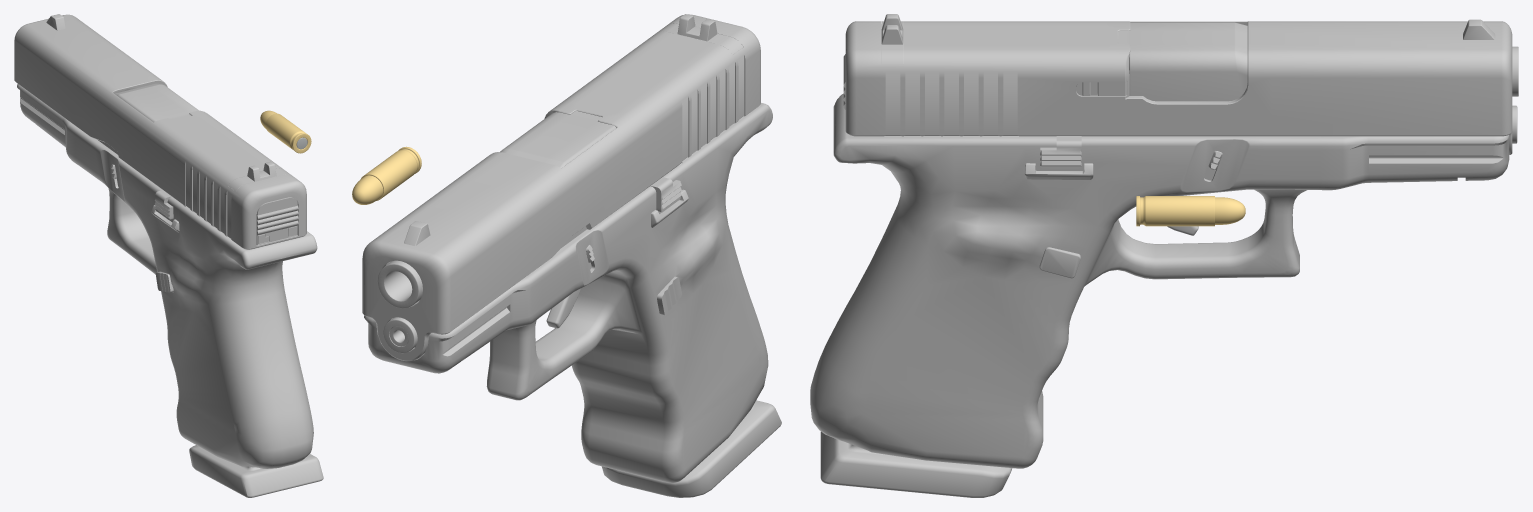
3 views of the same model, side by side, from view 1: azimuth 30°, elevation 25°; view 2: azimuth 150°, elevation 25°; view 3: azimuth 270°, elevation 25° (orthographic). The views are drawn at different scales.
Parts seen in each view (by area): view 1: GL_Frame, GL_Slide, GL_Magazine, GL_Barrel, Bullet_Casing, GL_SlideStop1; view 2: GL_Frame, GL_Slide, GL_Barrel, GL_Magazine, Bullet_Casing, GL_SlideStop1, Bullet.017, GL_MagRelease, GL_Trigger; view 3: GL_Frame, GL_Slide, GL_Barrel, GL_Magazine, Bullet_Casing, GL_SlideStop2, GL_MagRelease.
Boxes of the visible parts, x1=… form: GL_Frame: x1=17, y1=84, x2=317, y2=468; GL_Slide: x1=14, y1=14, x2=306, y2=249; GL_Magazine: x1=189, y1=445, x2=323, y2=497; GL_Barrel: x1=115, y1=83, x2=198, y2=122; Bullet_Casing: x1=265, y1=113, x2=311, y2=153; GL_SlideStop1: x1=154, y1=190, x2=173, y2=220; GL_Frame: x1=364, y1=103, x2=772, y2=482; GL_Slide: x1=362, y1=14, x2=760, y2=361; GL_Barrel: x1=377, y1=111, x2=616, y2=308; GL_Magazine: x1=602, y1=400, x2=781, y2=497; Bullet_Casing: x1=360, y1=146, x2=421, y2=200; GL_SlideStop1: x1=650, y1=177, x2=681, y2=212; Bullet.017: x1=352, y1=175, x2=383, y2=204; GL_MagRelease: x1=657, y1=276, x2=681, y2=315; GL_Trigger: x1=546, y1=288, x2=580, y2=328; GL_Frame: x1=810, y1=93, x2=1517, y2=468; GL_Slide: x1=843, y1=14, x2=1512, y2=154; GL_Barrel: x1=1118, y1=22, x2=1518, y2=101; GL_Magazine: x1=820, y1=431, x2=1012, y2=497; Bullet_Casing: x1=1136, y1=196, x2=1214, y2=226; GL_SlideStop2: x1=1040, y1=136, x2=1081, y2=168; GL_MagRelease: x1=1039, y1=247, x2=1080, y2=278.
Size of the model in its own units: 0.1054 by 0.1817 by 0.2574.
